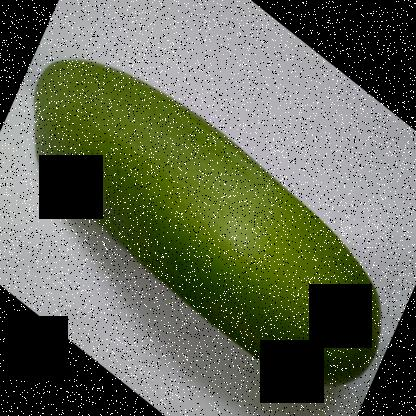freshunripe: (20, 46, 386, 399)
